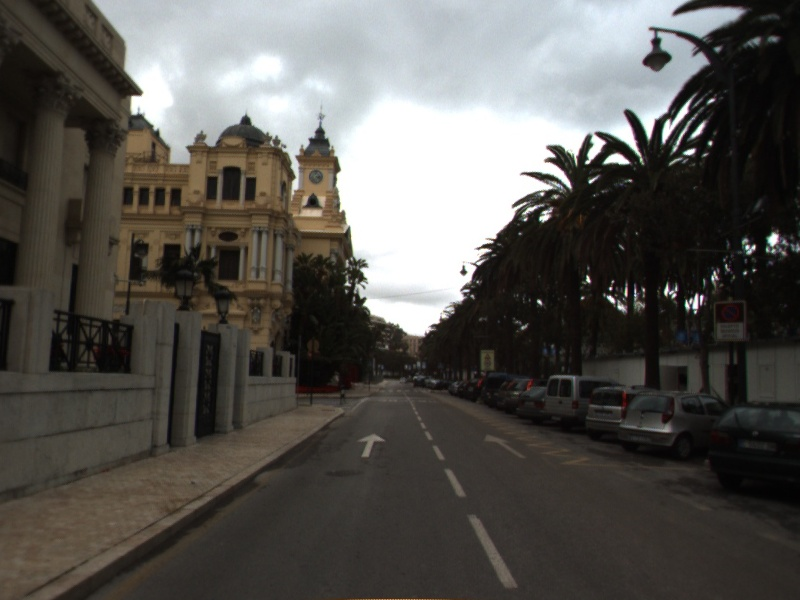STRAIGHT: (481, 432, 529, 460), (354, 431, 388, 459)
